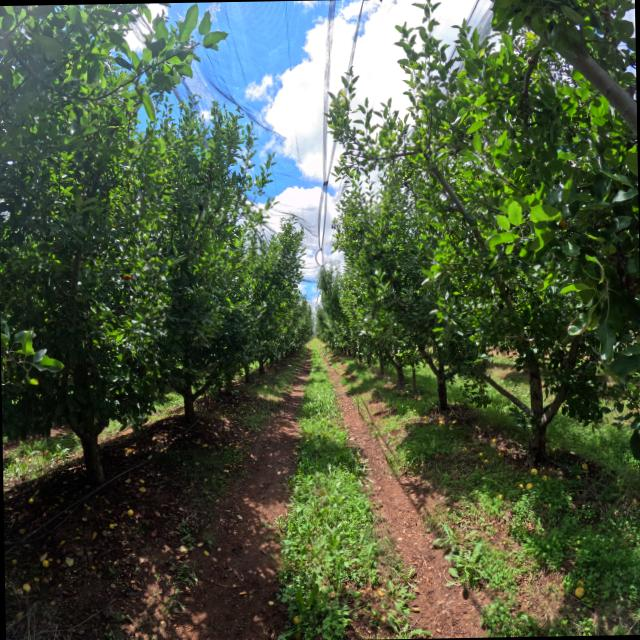-FireBlight-: (612, 245, 640, 310)
